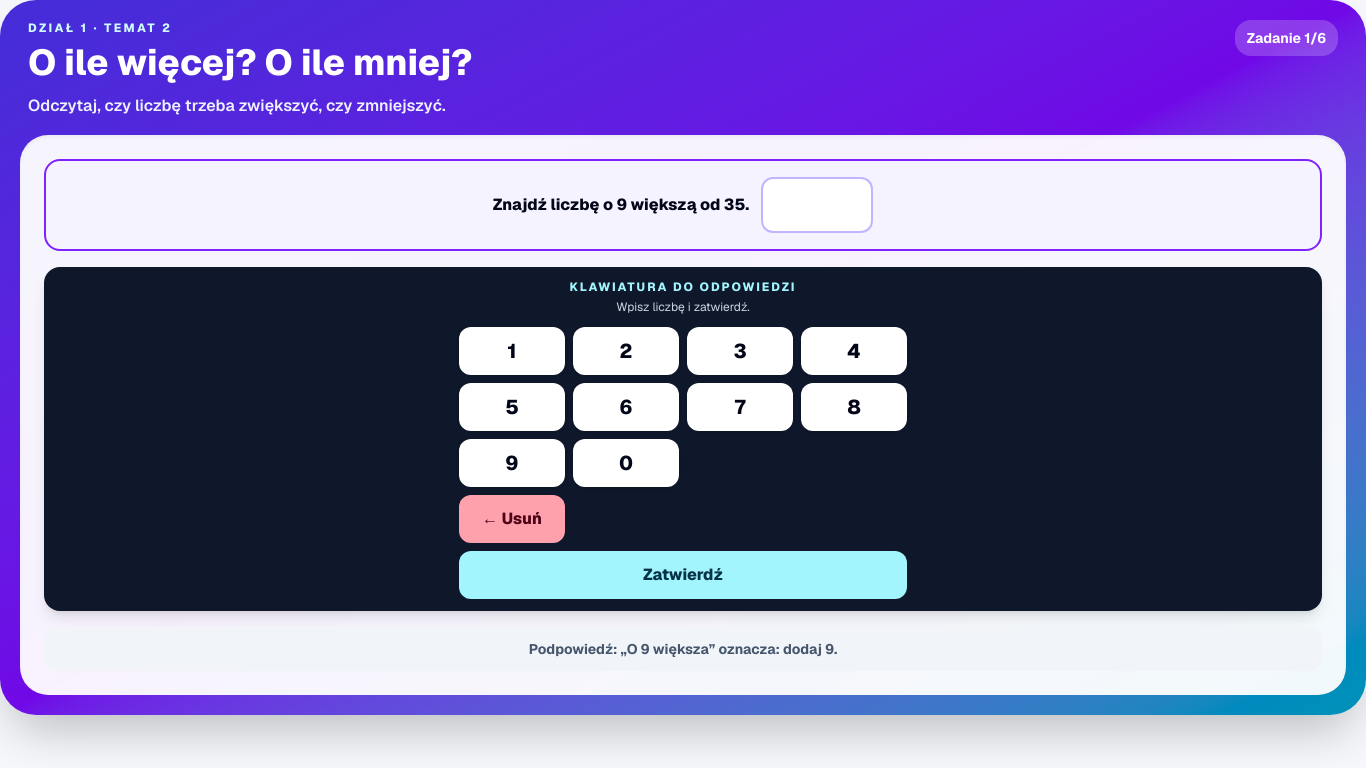
it: Grade4MoreLessLessonLab › blokuje klawiaturę urządzenia i przyjmuje wynik pierwszego zadania
The width and height of the screenshot is (1366, 768).
Expected: the text "Znajdź liczbę o 9 większą od 35." is shown, [493,193,749,217]
Step 1. Click the button "4" → {"x": 854, "y": 351}, box [801,327,907,375]
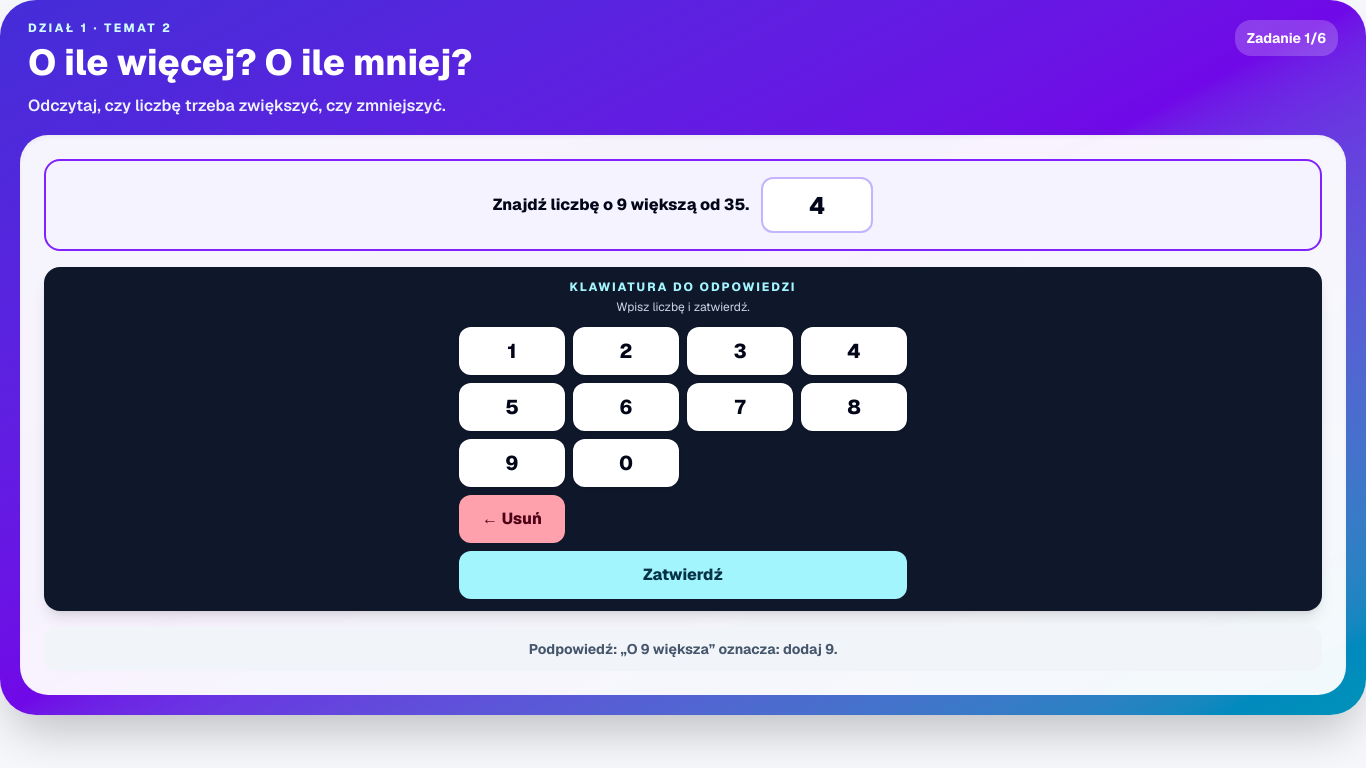
Step 2. Click the button "4" → {"x": 854, "y": 351}, box [801,327,907,375]
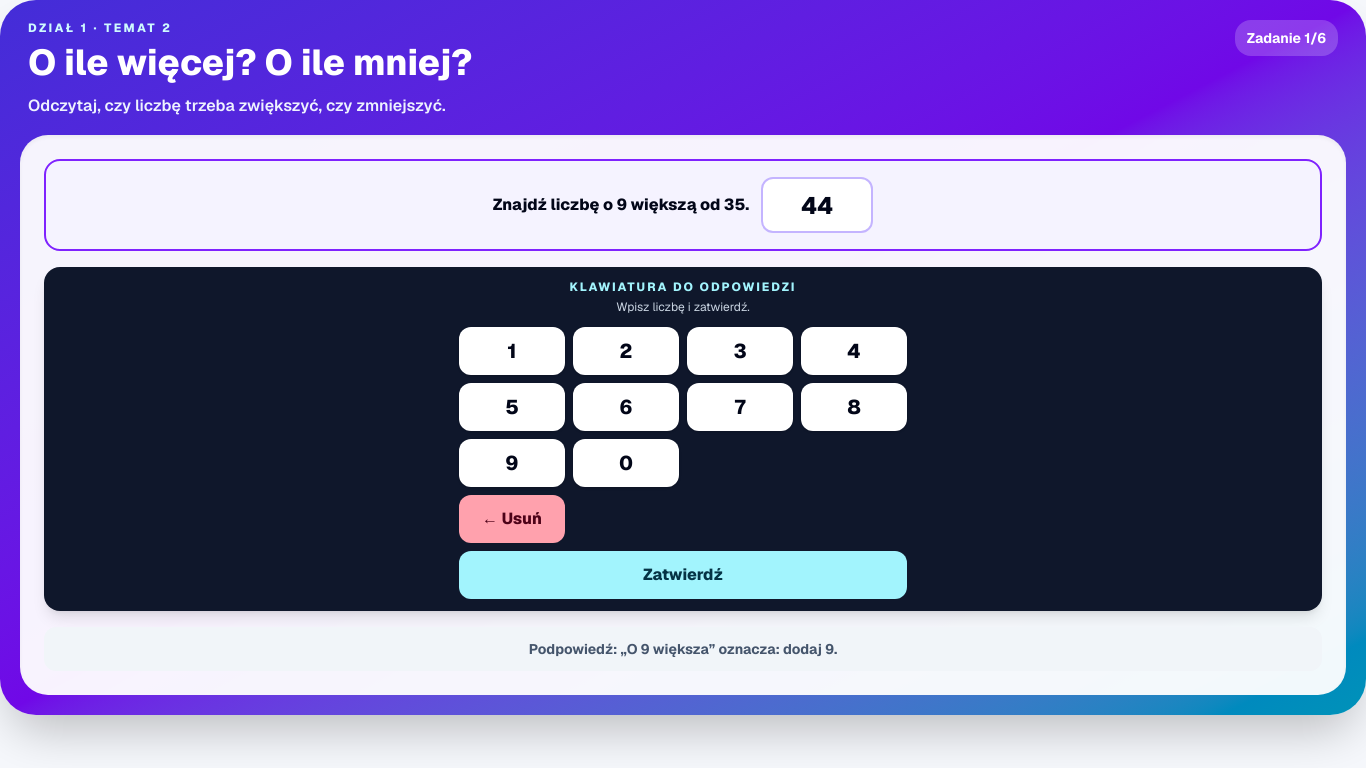
Step 3. Click the button "Zatwierdź" → {"x": 683, "y": 575}, box [459,551,907,599]
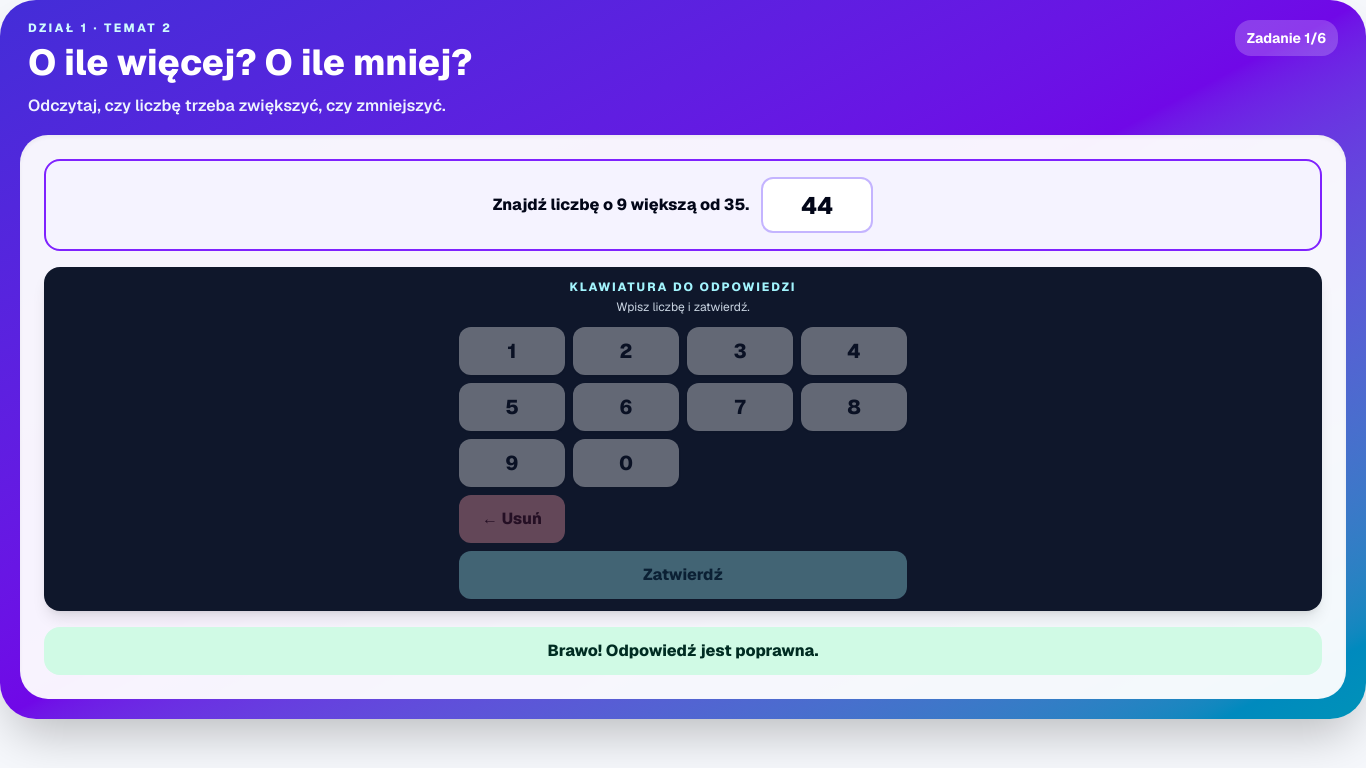
Result: the message shows "Brawo" at [548,640,818,661]
